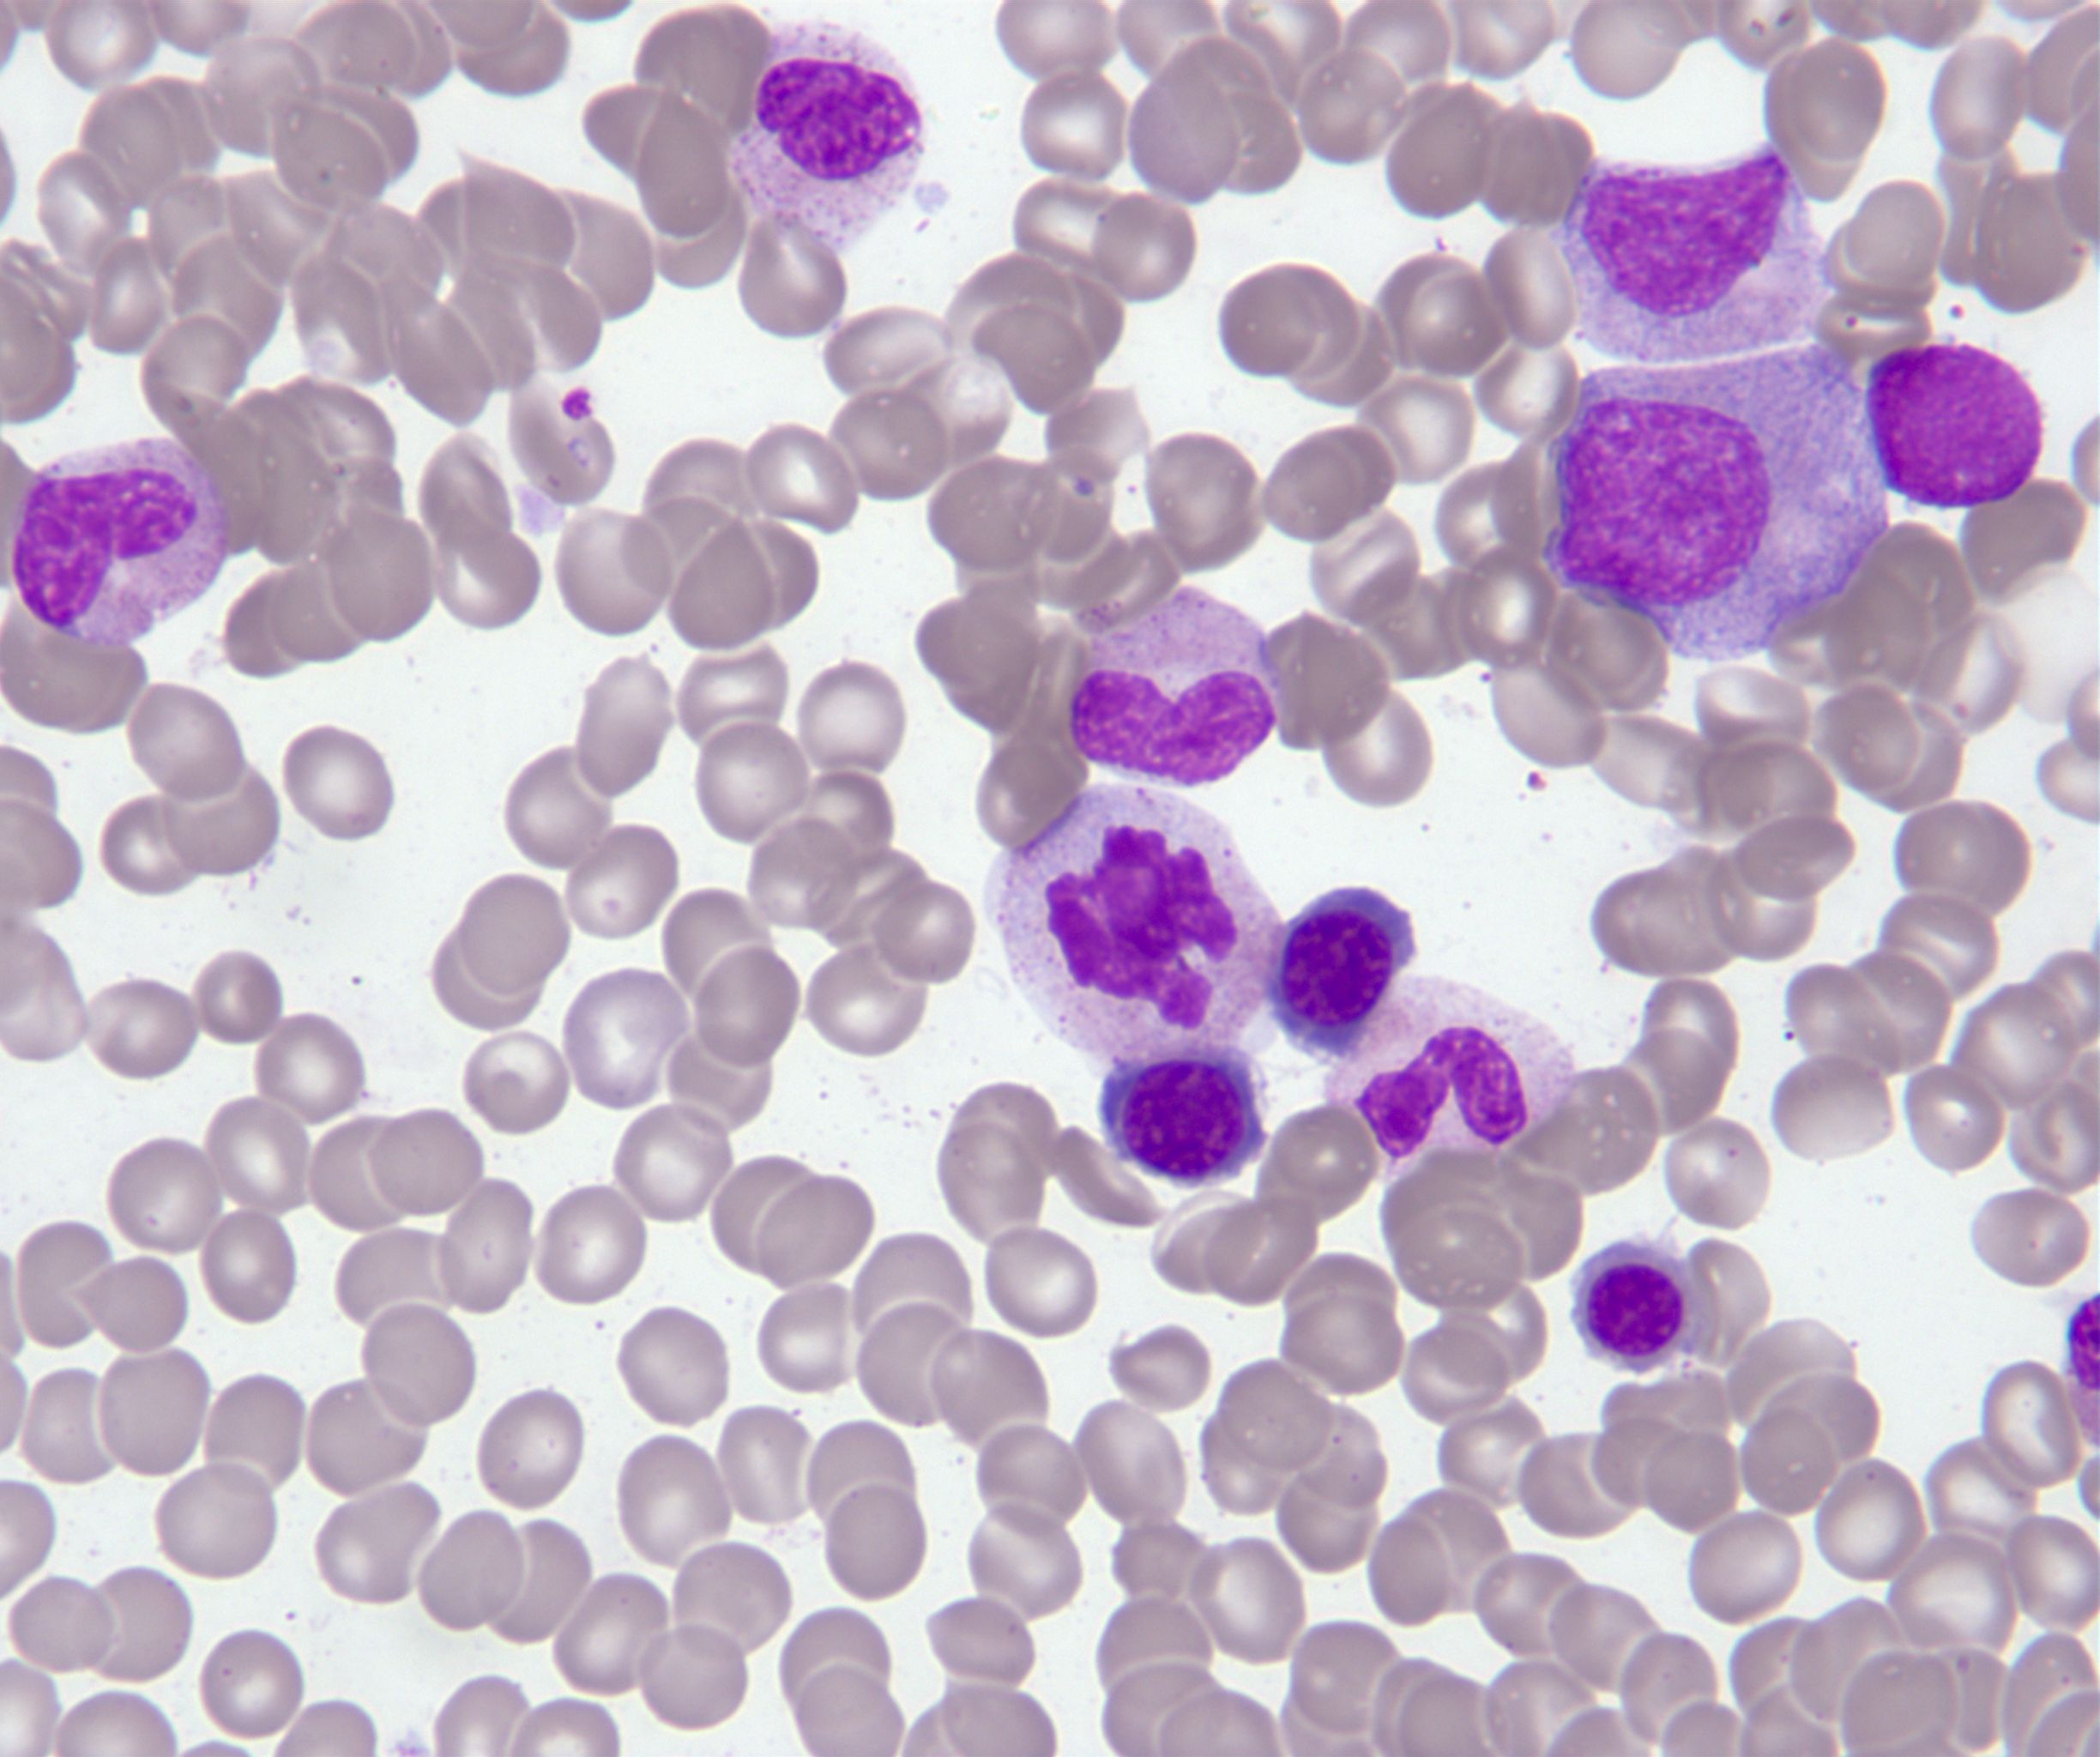23: (1270, 883, 1420, 1061), (1094, 1047, 1273, 1195), (1568, 1237, 1709, 1382)
3: (1537, 342, 1898, 668), (1552, 134, 1849, 366)
4: (7, 433, 235, 654), (1066, 578, 1285, 794)
5: (1319, 974, 1578, 1179), (724, 14, 935, 258)
x: (977, 780, 1285, 1061), (1863, 338, 2049, 513)
